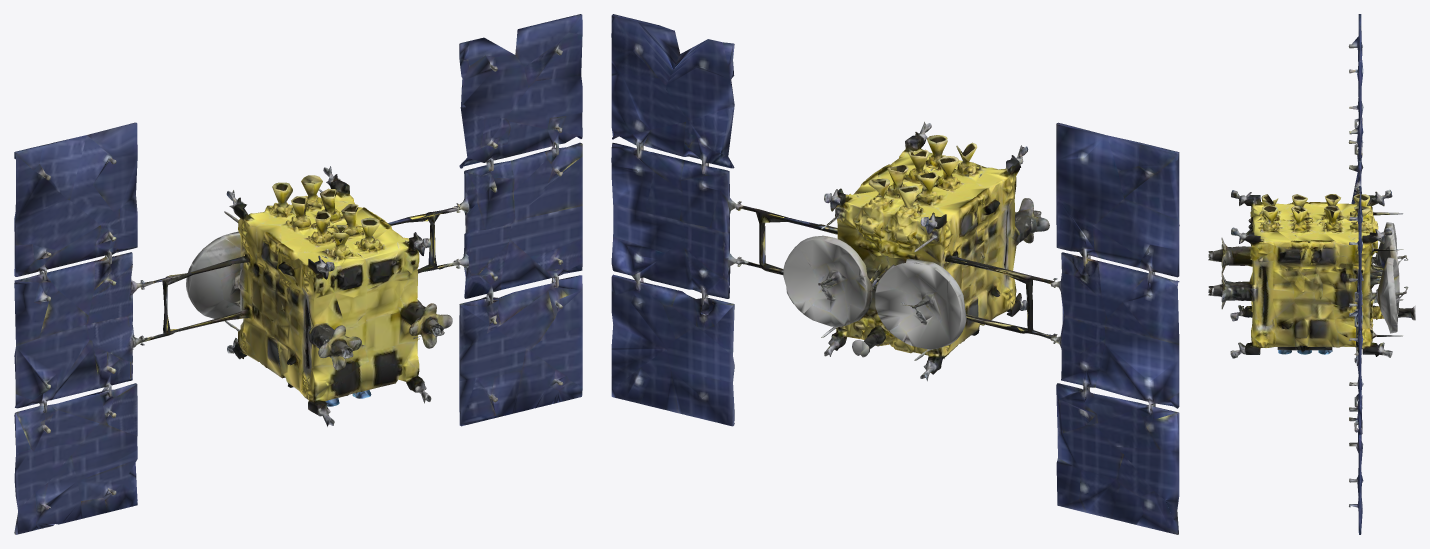
File: hayabusa2-low.glb
The picture shows the model from 3 angles, left to right: view 1: azimuth 30°, elevation 25°; view 2: azimuth 150°, elevation 25°; view 3: azimuth 270°, elevation 25°; orthographic projection. The views are drawn at different scales.
Size of the model in its own units: 1.9 by 1.22 by 0.7605.
Materials: 1 (1 with a texture image).
